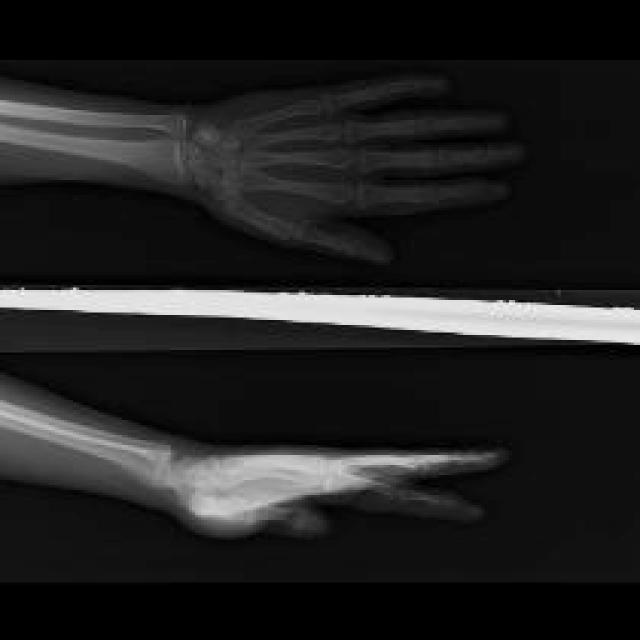normal: (0, 79, 523, 263), (0, 402, 494, 539)
